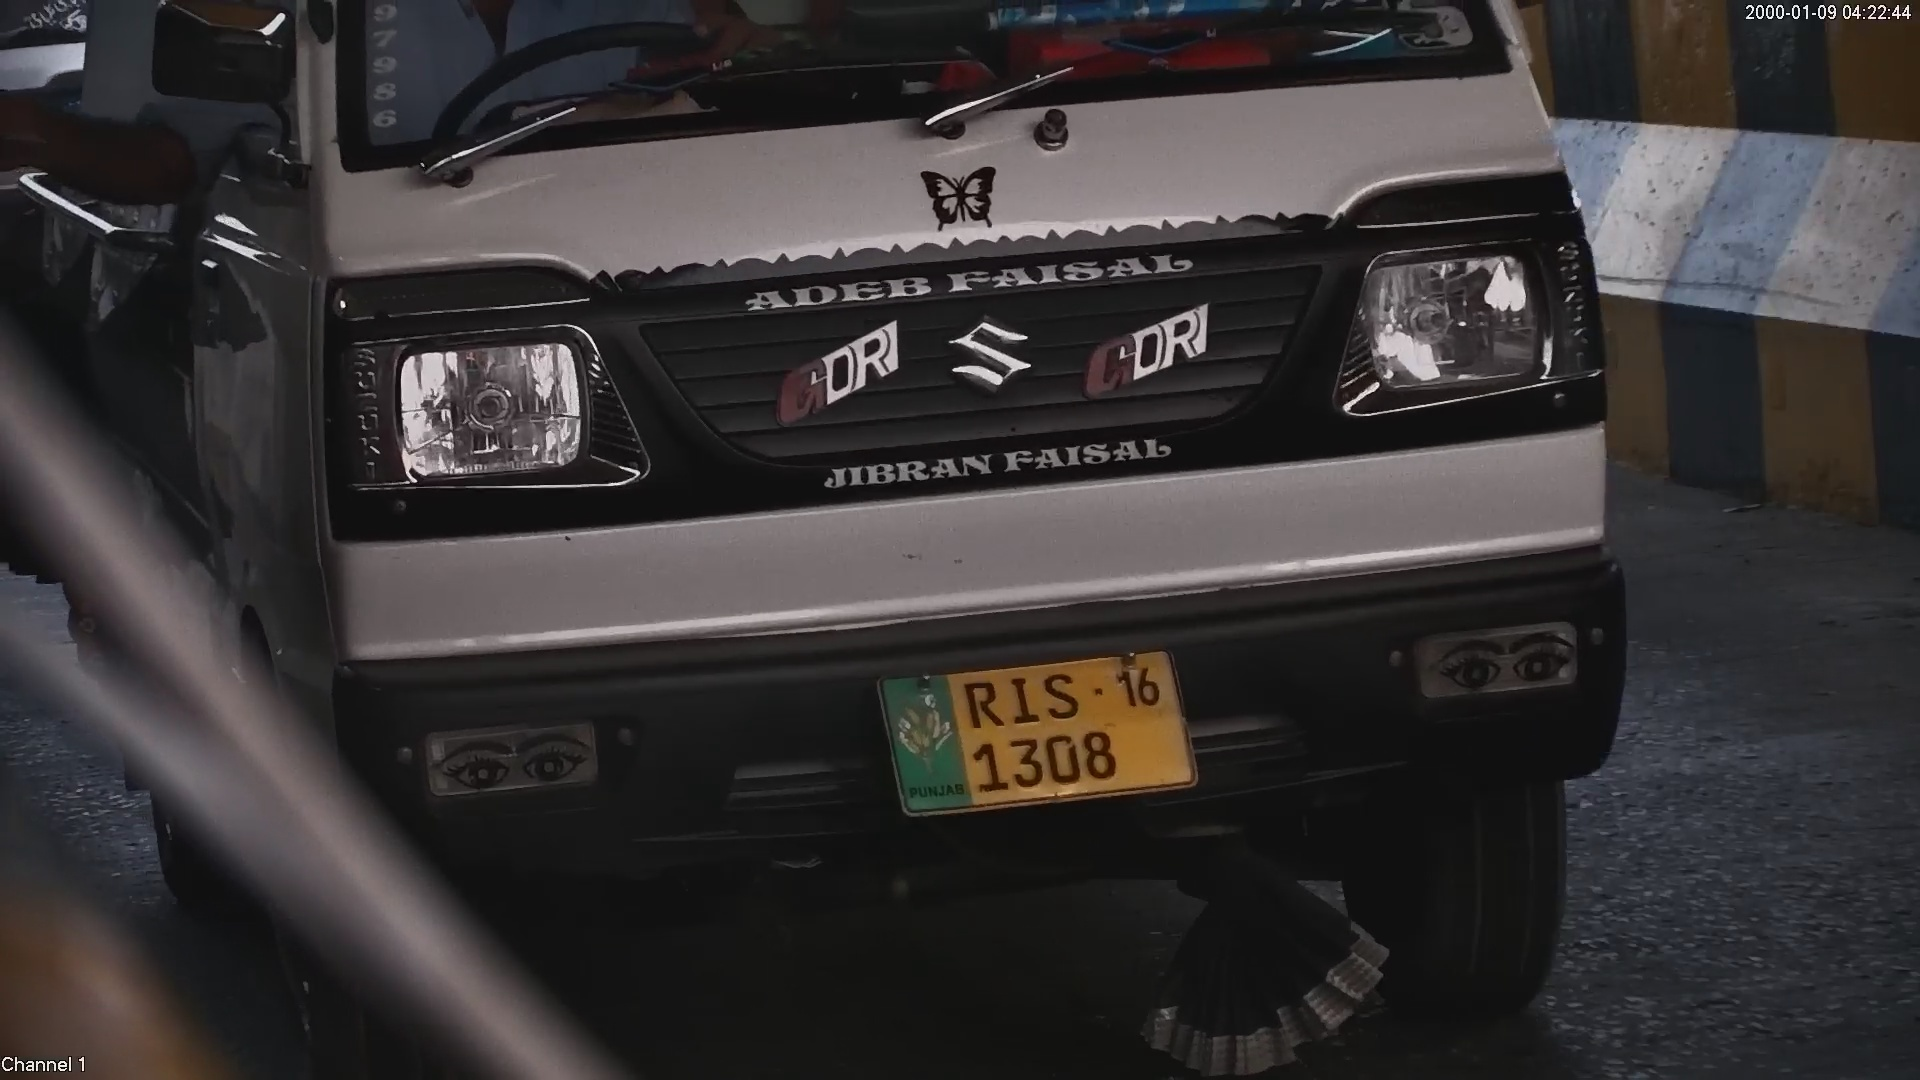Number_Plate: (856, 631, 1219, 818)
Undefined: (710, 240, 1245, 486), (315, 283, 660, 516), (1323, 205, 1593, 429), (408, 709, 621, 809), (1393, 607, 1591, 703)
